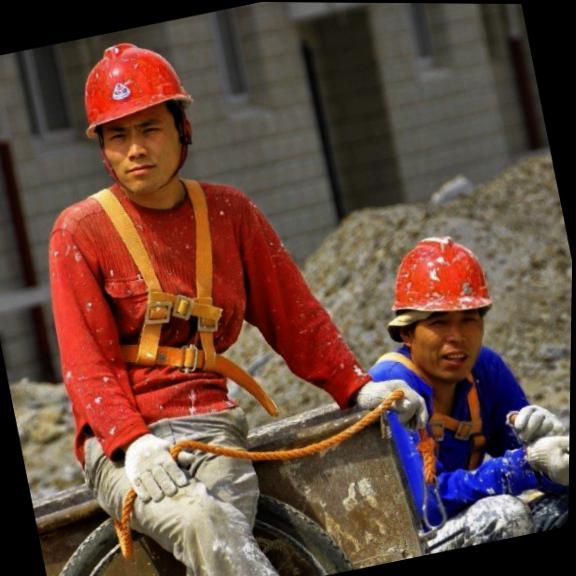no_safety_vest: (5, 153, 316, 467), (344, 336, 552, 530)
